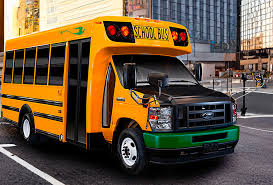bus: (1, 16, 241, 177)
